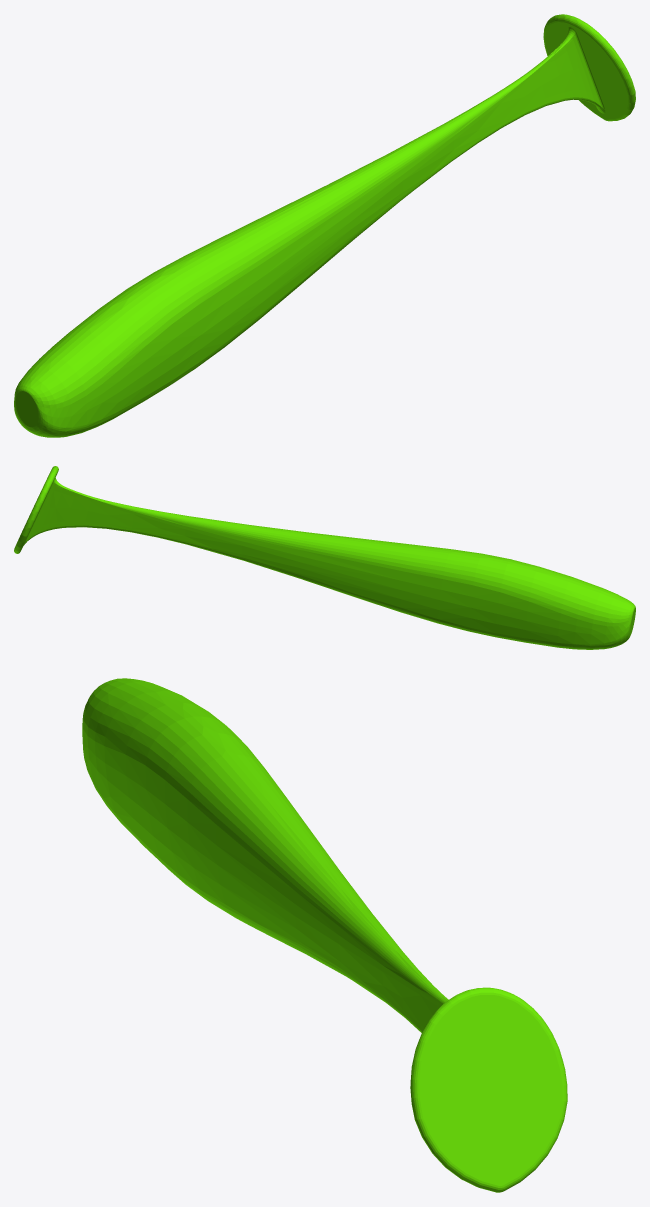
Rendered from swimbait.glb.
The picture shows the model from 3 angles, top to bottom: view 1: azimuth 30°, elevation 25°; view 2: azimuth 150°, elevation 25°; view 3: azimuth 270°, elevation 25°; orthographic projection. The views are drawn at different scales.
Visible parts, largest first — view 1: swimbait_productdraft2; view 2: swimbait_productdraft2; view 3: swimbait_productdraft2.
Boxes of the visible parts, <box> form: swimbait_productdraft2: <box>14,14,635,437</box>; swimbait_productdraft2: <box>14,466,635,649</box>; swimbait_productdraft2: <box>82,678,567,1192</box>.
Size of the model in its own units: 89.51 by 20.84 by 35.7.
